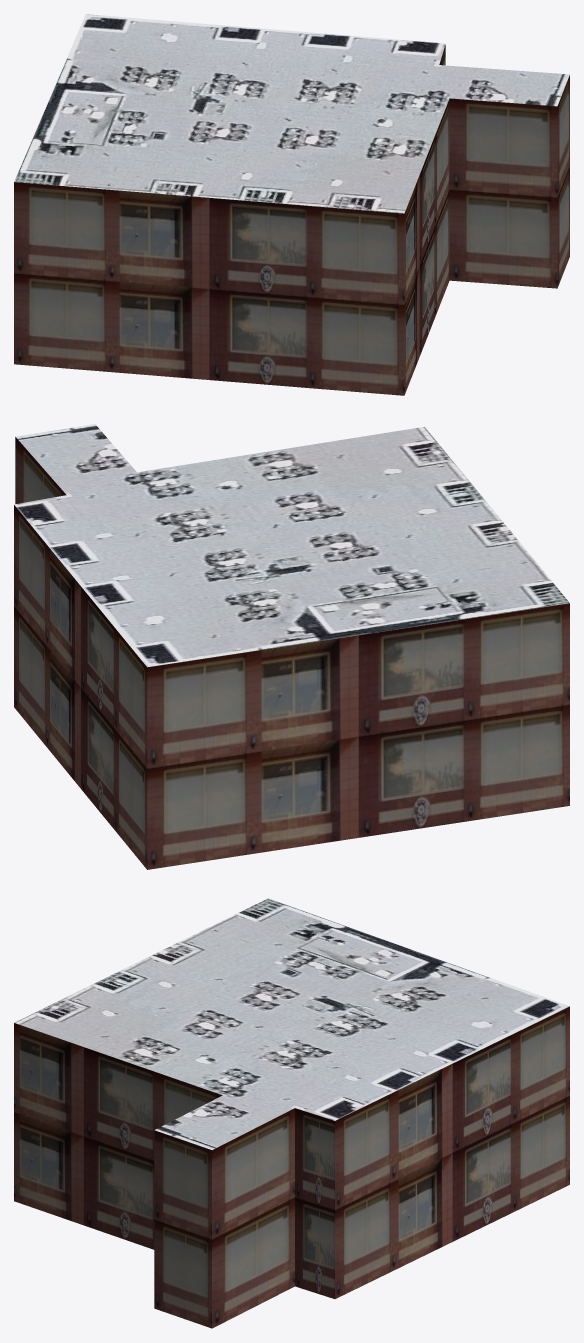
File: ResTex__1754.fbx
3 views of the same model, one above another, from view 1: azimuth 30°, elevation 25°; view 2: azimuth 150°, elevation 25°; view 3: azimuth 270°, elevation 25° (orthographic). The views are drawn at different scales.
Visible parts, largest first — view 1: CityEngineMaterial_13_m, CityEngineMaterial_8_m; view 2: CityEngineMaterial_13_m, CityEngineMaterial_8_m; view 3: CityEngineMaterial_13_m, CityEngineMaterial_8_m.
Boxes of the visible parts, left/top/right/bottom form: CityEngineMaterial_13_m: left=14, top=45, right=569, bottom=395; CityEngineMaterial_8_m: left=14, top=14, right=569, bottom=213; CityEngineMaterial_13_m: left=14, top=437, right=569, bottom=869; CityEngineMaterial_8_m: left=14, top=424, right=569, bottom=667; CityEngineMaterial_13_m: left=14, top=1006, right=569, bottom=1328; CityEngineMaterial_8_m: left=14, top=898, right=569, bottom=1149.
Size of the model in its own units: 18.17 by 6 by 16.95.
2 materials, 2 textured.
